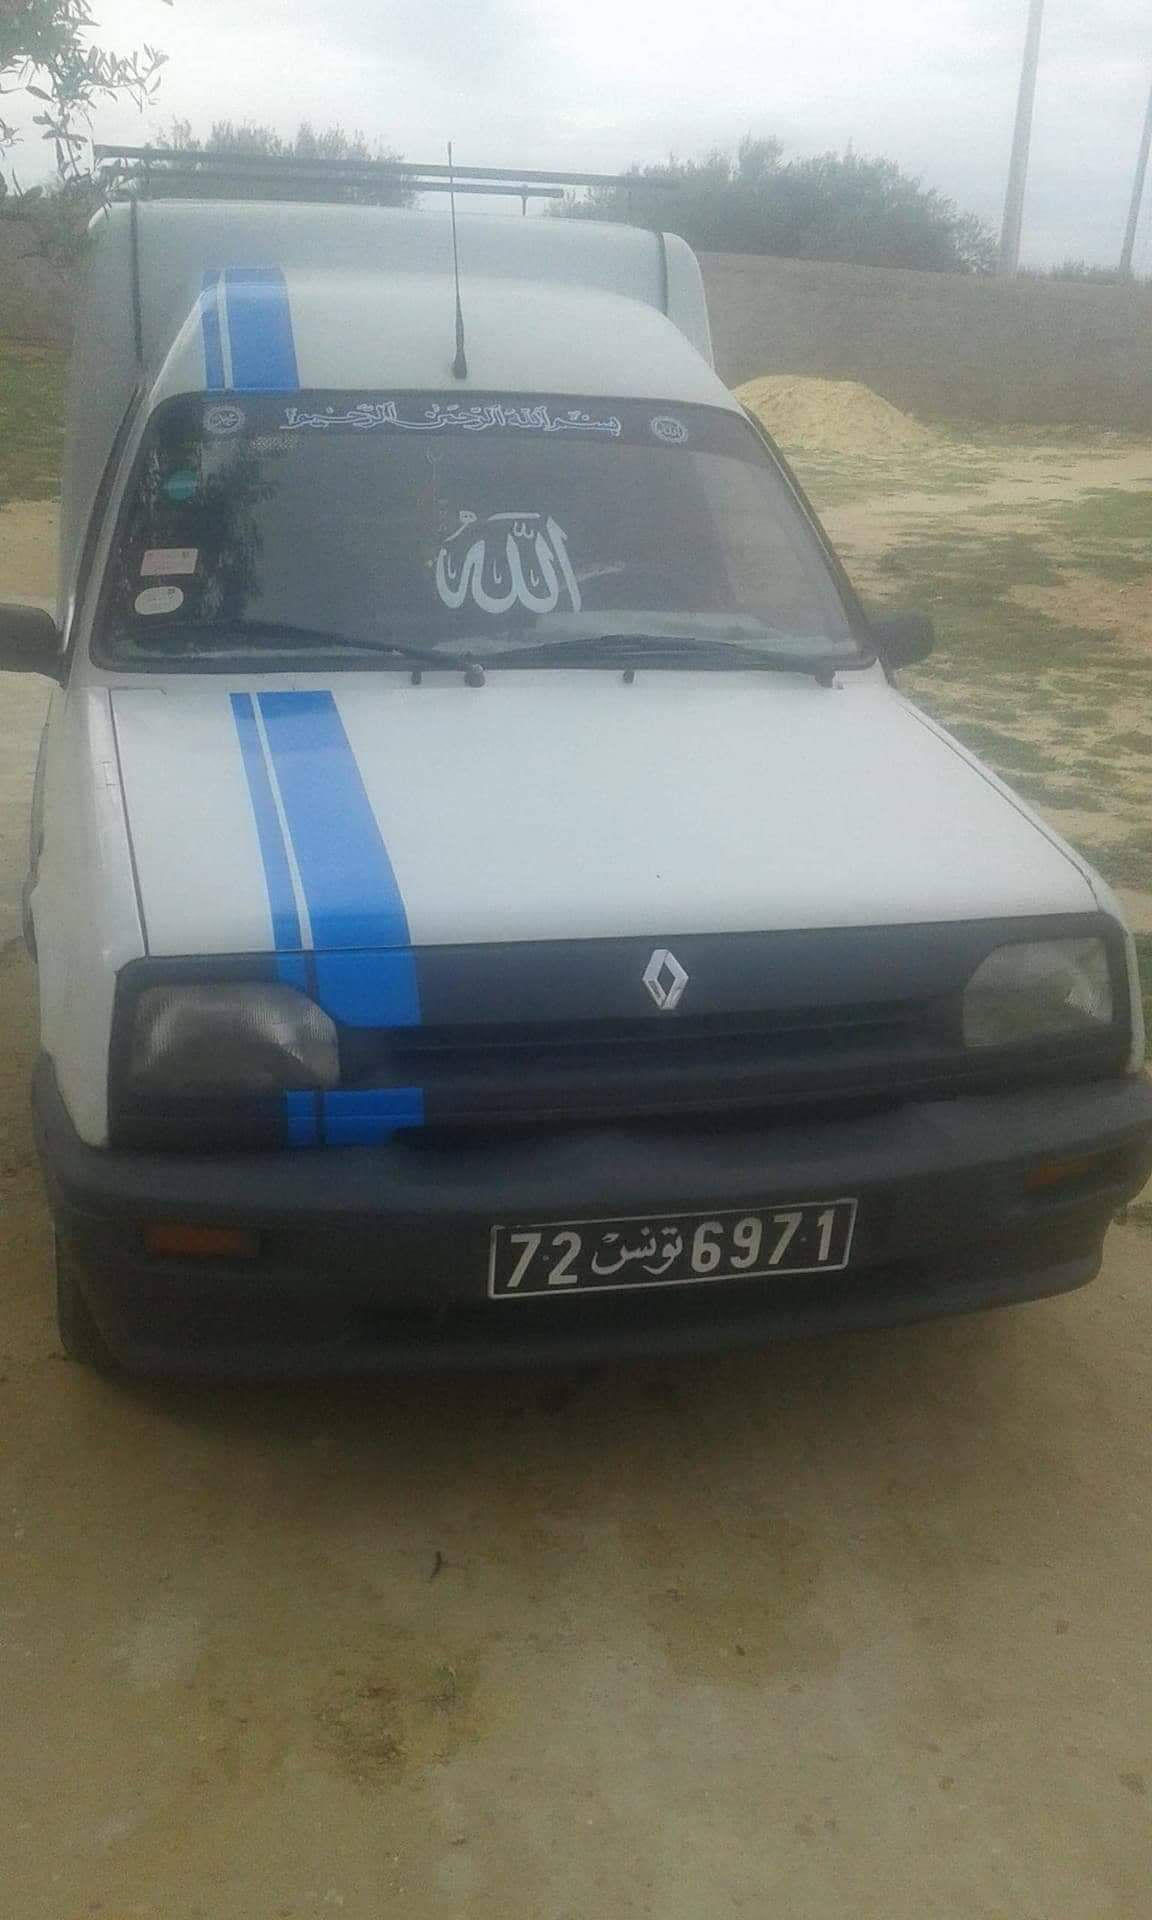LP: (481, 1186, 863, 1296)
